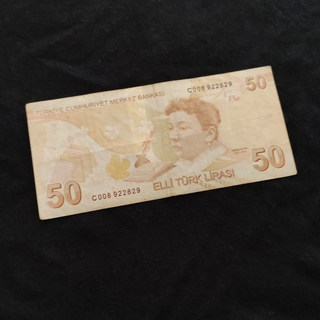50TLBack: (25, 64, 298, 220)
